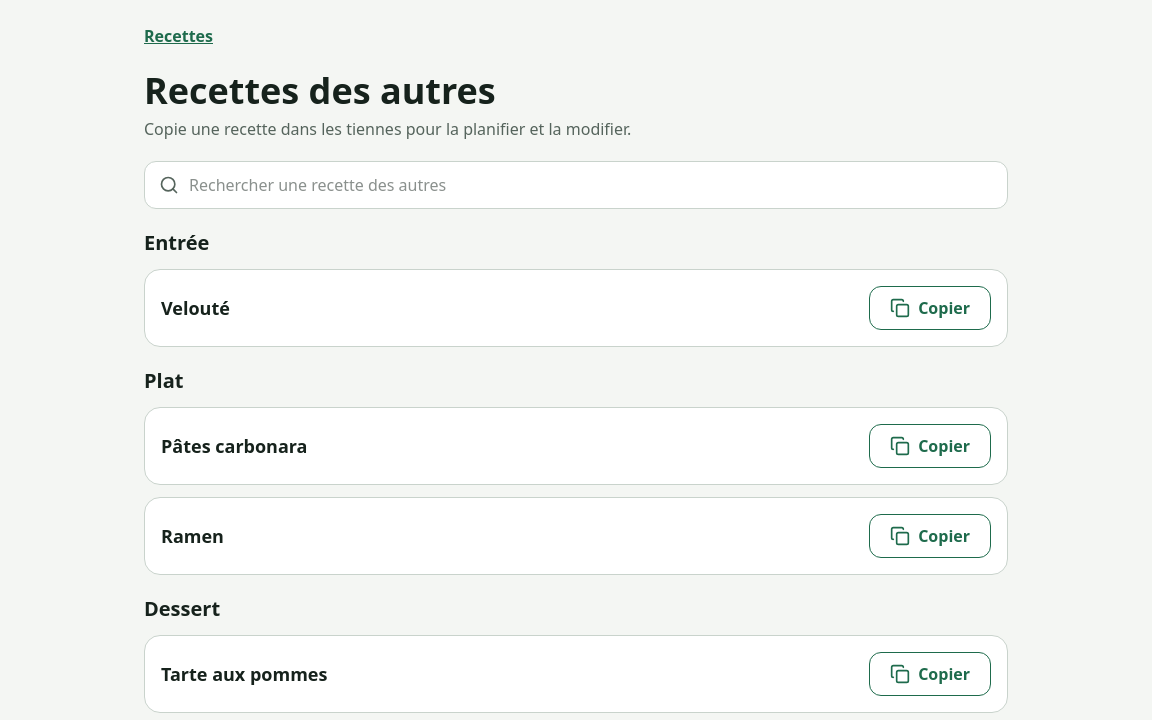
Test case: OtherRecipesView : recherche › attend une pause dans la frappe puis montre une liste simple, la catégorie sur chaque ligne
Type "t" into the search field with placeholder "Rechercher une recette des autres".
click(598, 185); type("t")  # box top-left (189, 165), bottom-right (1007, 205)
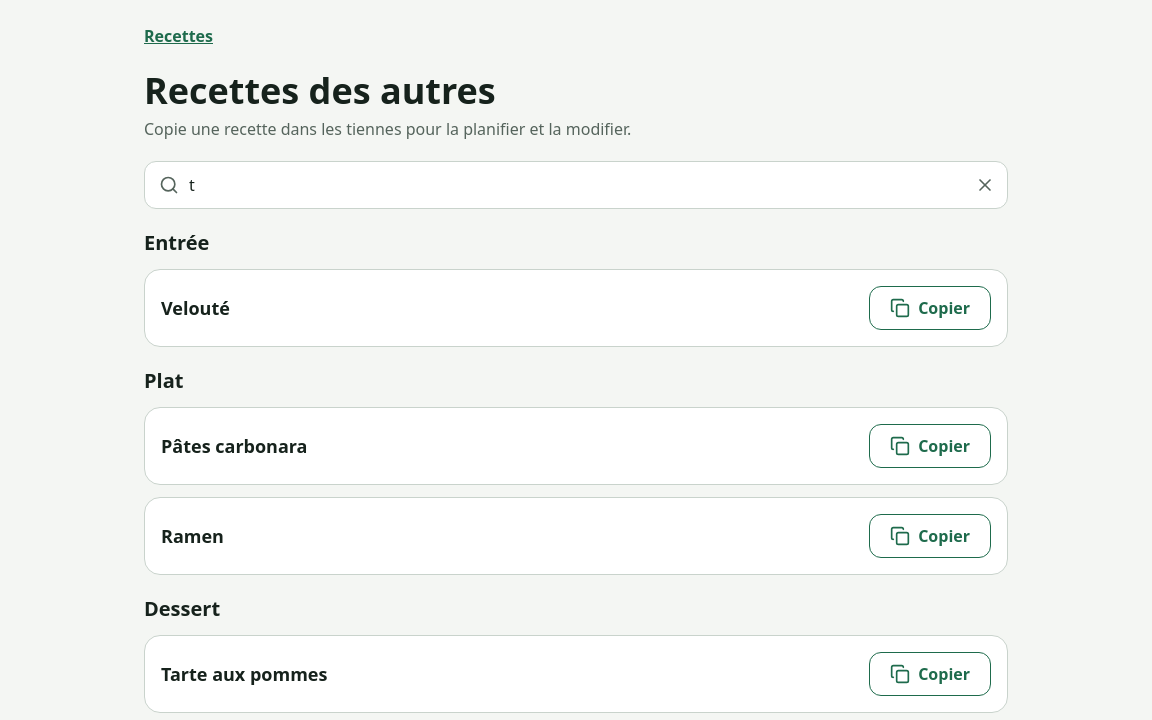
Replace the text in the search field with "ta" at (574, 185), box top-left (189, 165), bottom-right (959, 205)
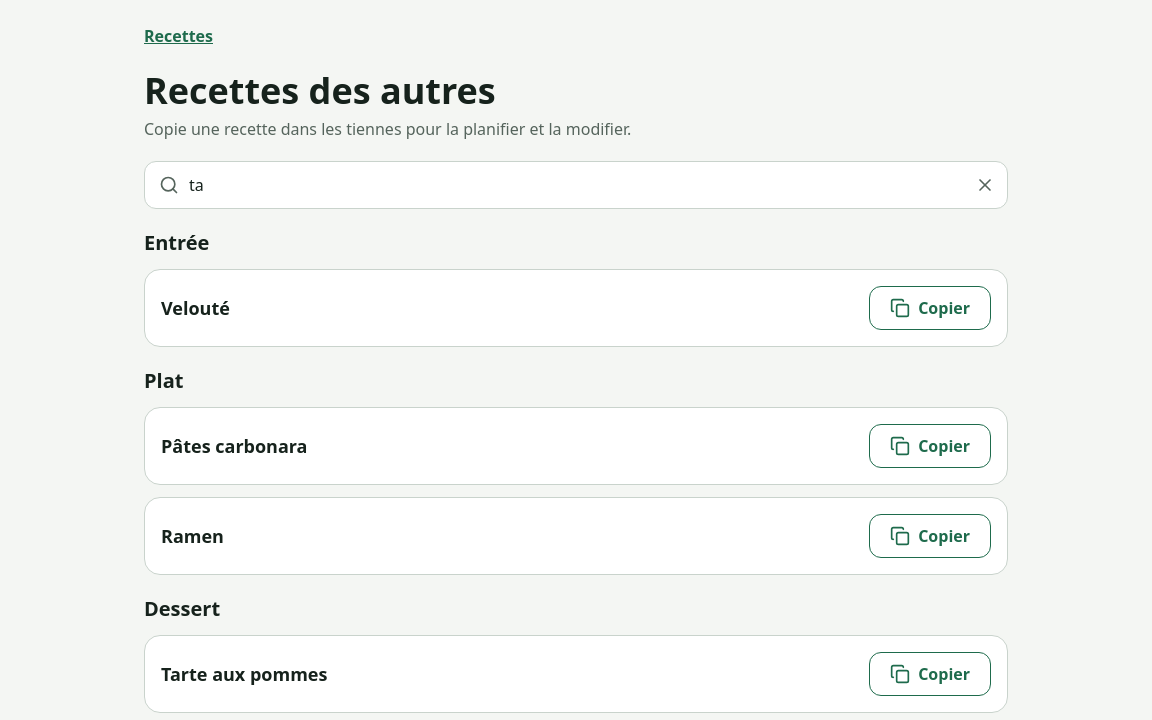
Replace the text in the search field with "tart" at (574, 185), box top-left (189, 165), bottom-right (959, 205)
Wait 300 ms
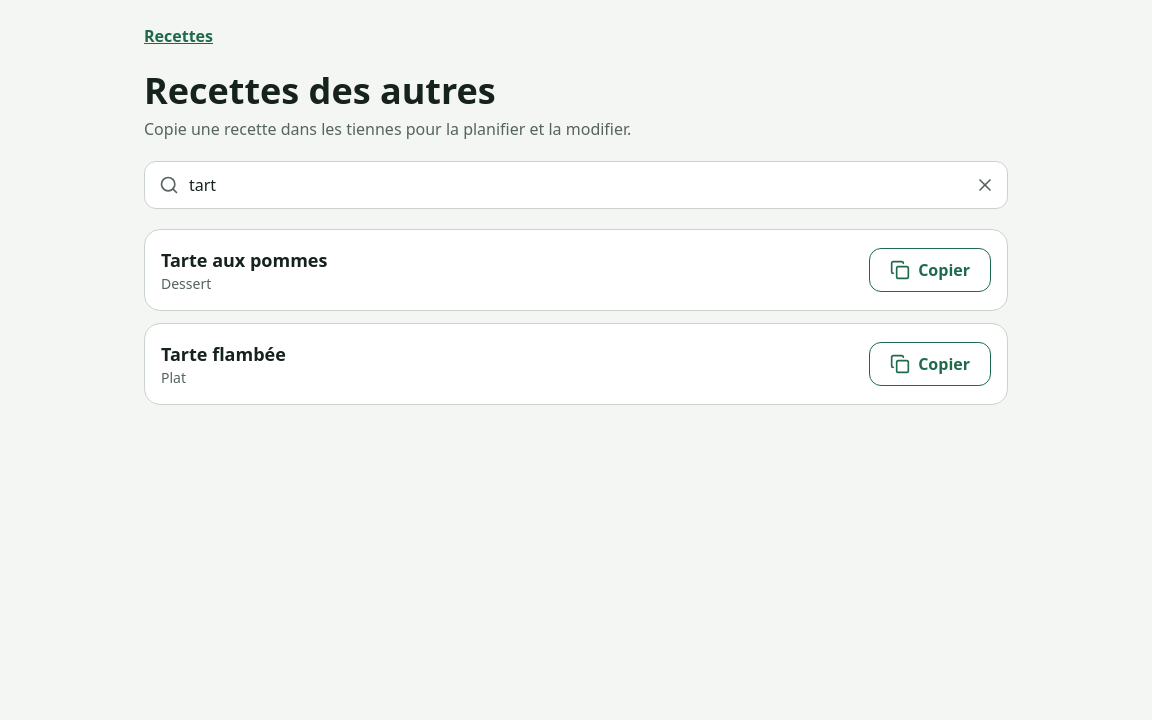
Expected: no headings are shown
